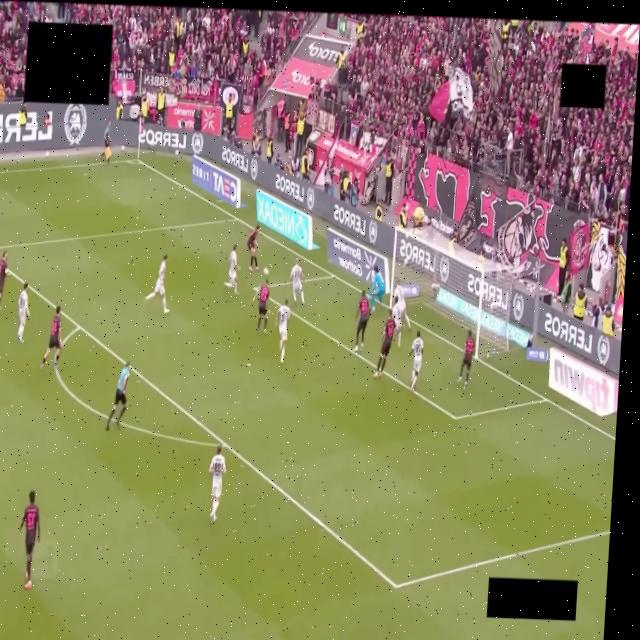ball: (263, 267, 268, 274)
player: (19, 490, 39, 589), (374, 310, 395, 378), (145, 255, 168, 314), (40, 306, 61, 368), (209, 445, 225, 524), (457, 330, 474, 390), (353, 291, 369, 351), (16, 282, 31, 343), (252, 280, 268, 334), (409, 330, 423, 391), (277, 299, 290, 362), (393, 286, 410, 330), (289, 259, 304, 305), (370, 265, 384, 312), (226, 244, 239, 294), (246, 226, 259, 271), (391, 296, 402, 347), (0, 252, 7, 303)
referee: (106, 362, 129, 430)
